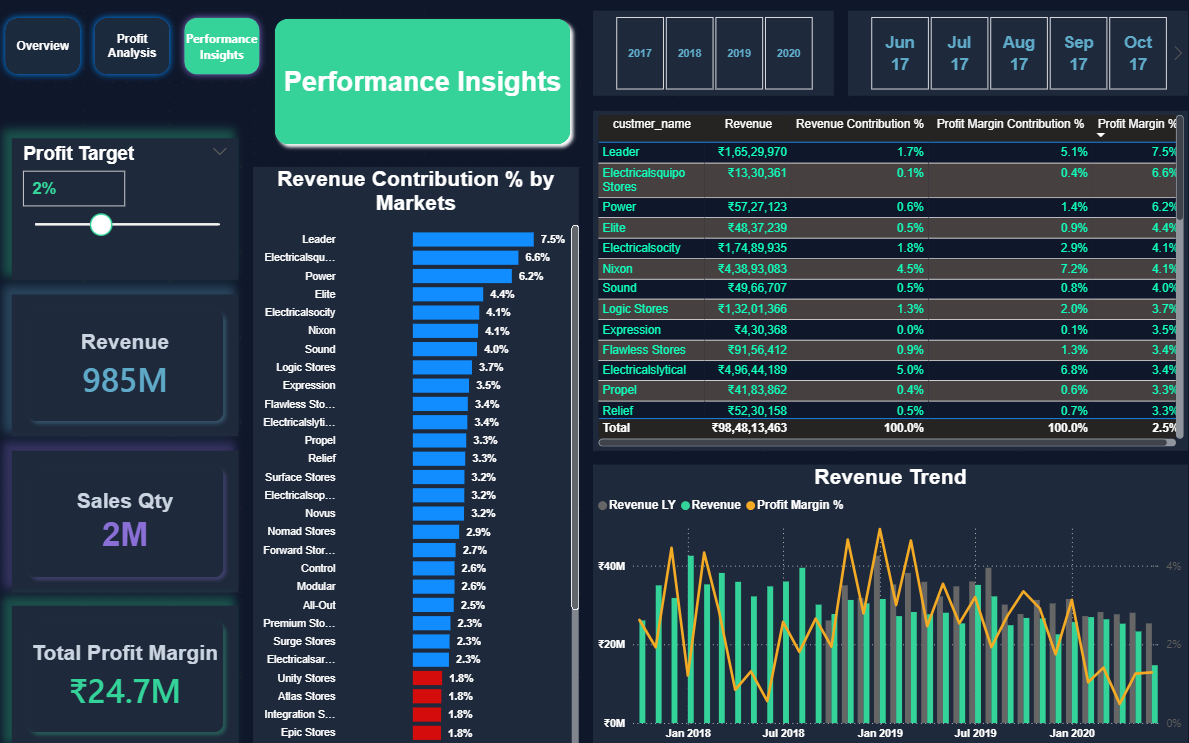

Layout of this report page (visuals, bound fields, positions):
{"tool":"powerbi","page":{"name":"Performance Insights","canvas":[1350,850],"ordinal":2},"visuals":[{"type":"cardVisual","fields":{"Data":["BaseMeasures.Revenue"]},"box":[16,336,256,160],"z":0},{"type":"cardVisual","fields":{"Data":["BaseMeasures.Sales Qty"]},"box":[16,512,256,160],"z":1000},{"type":"barChart","title":"Revenue Contribution % by Markets","fields":{"Y":["BaseMeasures.Profit Margin %"],"Category":["sales markets.markets_name","sales markets.zone","sales customers.custmer_name"]},"box":[288,192,368,656],"z":2000},{"type":"slicer","fields":{"Values":["sales date.year"]},"box":[672,16,272,96],"z":3000},{"type":"slicer","fields":{"Values":["sales date.cy_date"]},"box":[960,16,384,96],"z":4000},{"type":"lineClusteredColumnComboChart","title":"Revenue Trend","fields":{"Category":["sales date.cy_date"],"Y":["BaseMeasures.Revenue LY","BaseMeasures.Revenue"],"Y2":["BaseMeasures.Profit Margin %"]},"box":[672,528,672,320],"z":5000},{"type":"cardVisual","fields":{"Data":["BaseMeasures.Total Profit Margin"]},"box":[16,688,256,160],"z":6000},{"type":"slicer","fields":{"Values":["Profit Target.Profit Target"]},"box":[16,160,256,160],"z":7000},{"type":"shape","box":[304,16,352,160],"z":8000},{"type":"tableEx","title":"Top 5 Customers","fields":{"Values":["sales customers.custmer_name","BaseMeasures.Revenue","BaseMeasures.Revenue Contribution %","BaseMeasures.Profit Margin Contribution %","BaseMeasures.Profit Margin %"]},"box":[672,128,672,384],"z":9000},{"type":"pageNavigator","box":[0,16,304,80],"z":9001}]}

Visuals, with their boxes in screenshot pixels (x1, y1, x2, y2), scaled from the page's 1350x850 canvas onto the 1189x743 screenshot:
cardVisual - BaseMeasures.Revenue: <region>14, 294, 240, 434</region>
cardVisual - BaseMeasures.Sales Qty: <region>14, 448, 240, 587</region>
"Revenue Contribution % by Markets" barChart: <region>254, 168, 578, 741</region>
slicer - sales date.year: <region>592, 14, 831, 98</region>
slicer - sales date.cy_date: <region>846, 14, 1184, 98</region>
"Revenue Trend" lineClusteredColumnComboChart: <region>592, 462, 1184, 741</region>
cardVisual - BaseMeasures.Total Profit Margin: <region>14, 601, 240, 741</region>
slicer - Profit Target.Profit Target: <region>14, 140, 240, 280</region>
shape: <region>268, 14, 578, 154</region>
"Top 5 Customers" tableEx: <region>592, 112, 1184, 448</region>
pageNavigator: <region>0, 14, 268, 84</region>
